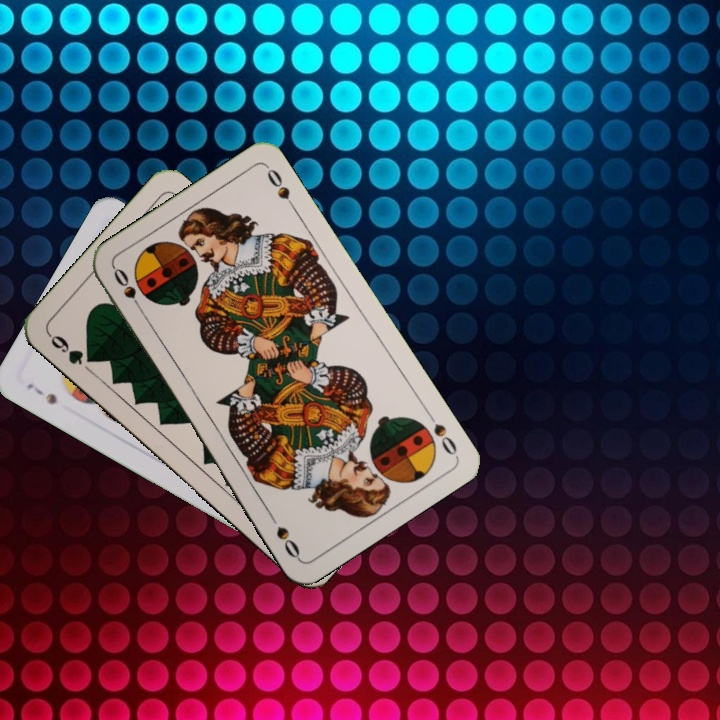G9: (44, 329, 99, 368)
S7: (23, 379, 60, 408)
SO: (421, 406, 460, 458), (109, 264, 147, 317)
